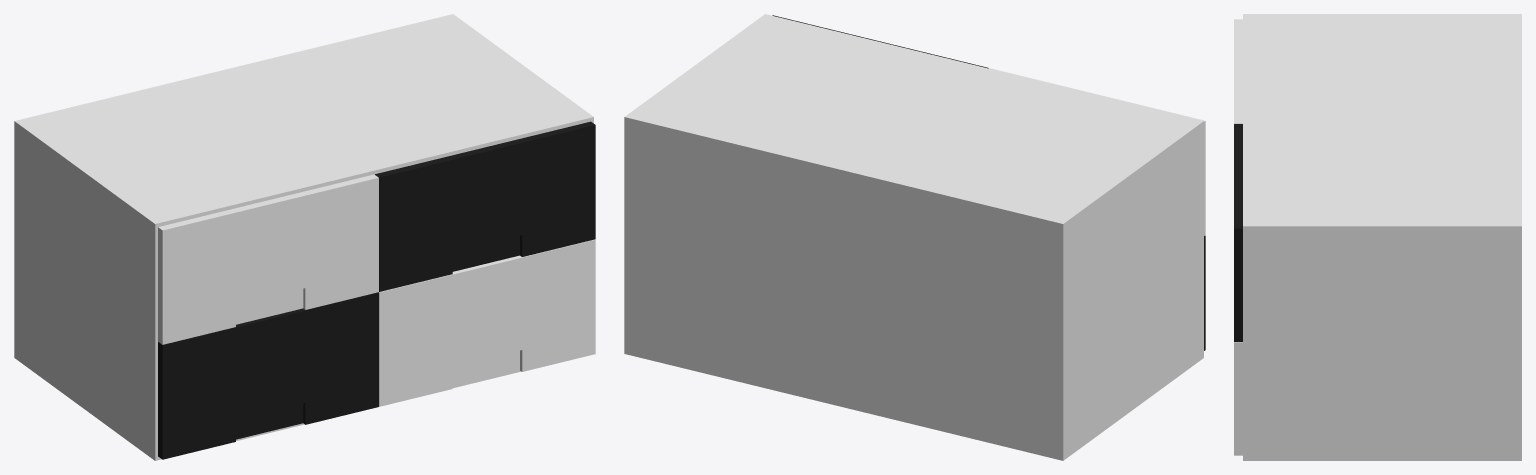
Rendered from Drawer30.fbx.
3 renders of one model, left to right at view 1: azimuth 30°, elevation 25°; view 2: azimuth 150°, elevation 25°; view 3: azimuth 270°, elevation 25°, orthographic.
Visible parts, largest first — view 1: Drawer30_Body, Drawer30_1, Drawer30_2, Drawer30_3, Drawer30_4; view 2: Drawer30_Body; view 3: Drawer30_Body, Drawer30_2, Drawer30_4, Drawer30_1.
Part boxes in pixels (x1=…): Drawer30_Body: x1=14, y1=14, x2=593, y2=460; Drawer30_1: x1=158, y1=174, x2=378, y2=344; Drawer30_2: x1=375, y1=121, x2=595, y2=291; Drawer30_3: x1=158, y1=292, x2=378, y2=459; Drawer30_4: x1=378, y1=239, x2=595, y2=406; Drawer30_Body: x1=624, y1=14, x2=1203, y2=460; Drawer30_Body: x1=1243, y1=14, x2=1521, y2=460; Drawer30_2: x1=1234, y1=124, x2=1242, y2=341; Drawer30_4: x1=1234, y1=342, x2=1242, y2=455; Drawer30_1: x1=1234, y1=19, x2=1242, y2=123.
Size of the model in its own units: 77.76 by 40.11 by 44.59.
